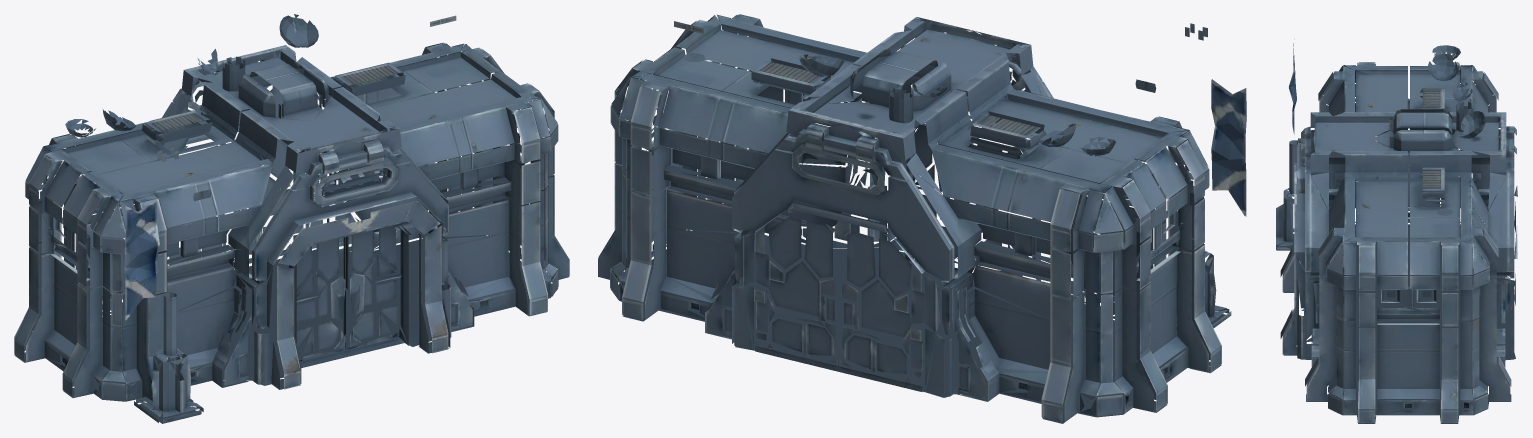
Rendered from infantry_bay_LOD2.glb.
3 renders of one model, left to right at view 1: azimuth 30°, elevation 25°; view 2: azimuth 150°, elevation 25°; view 3: azimuth 270°, elevation 25°, orthographic. The views are drawn at different scales.
Visible parts, largest first — view 1: infantry_bay_LOD2; view 2: infantry_bay_LOD2; view 3: infantry_bay_LOD2.
Boxes of the visible parts, x1,y1,x2,y2 form: infantry_bay_LOD2: [14, 14, 569, 423]; infantry_bay_LOD2: [598, 14, 1246, 423]; infantry_bay_LOD2: [1276, 39, 1517, 423].
Bounding box in the file's own units: 1 × 0.501 × 0.4951.
Materials: 1 (1 with a texture image).
